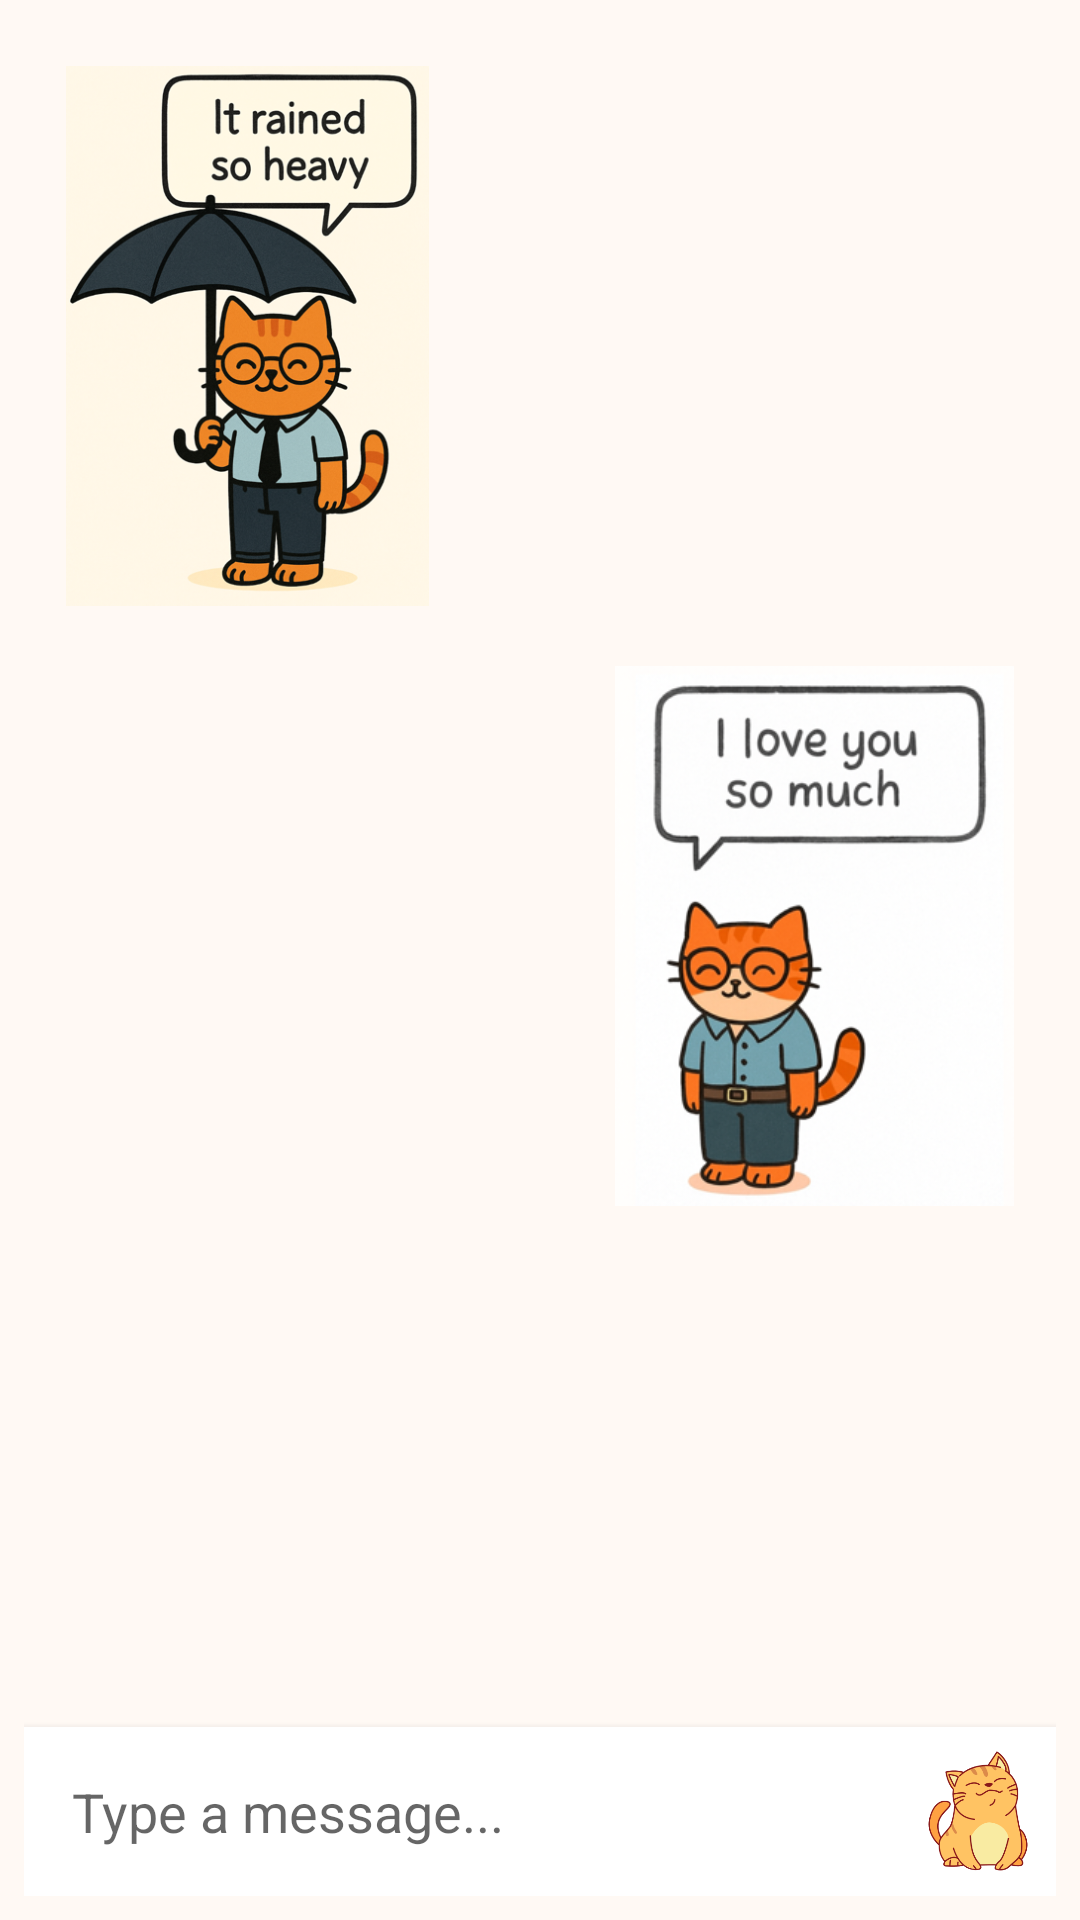

Point at icon controls on the screen. Image size 1080x1920, points as (x,y).
Open sticker pack: (978,1811)
